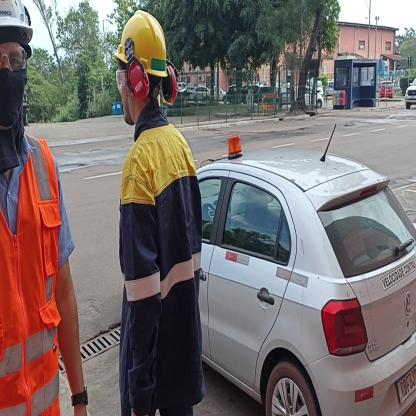Balaclava: (0, 27, 29, 141)
C_eletrica: (119, 120, 205, 406)
Capacete: (116, 6, 167, 72), (0, 0, 41, 26)
colete: (0, 142, 59, 416)
